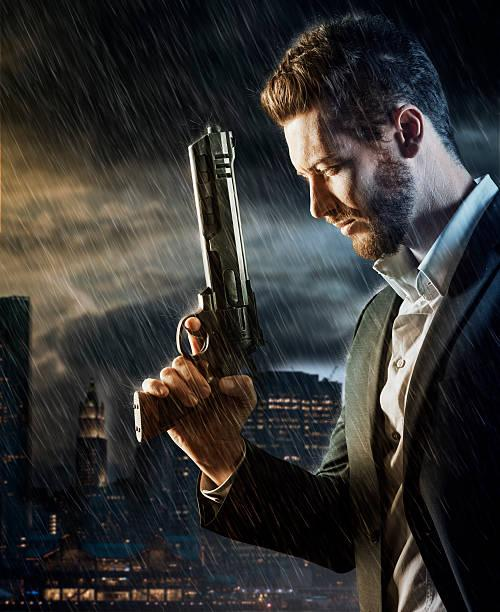weapon: (135, 114, 255, 442)
